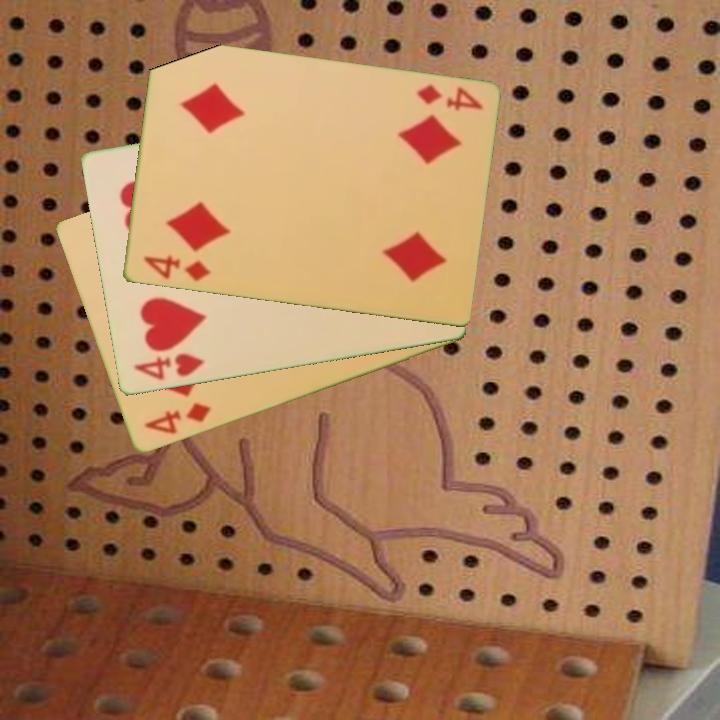4d: (140, 400, 213, 438), (413, 81, 486, 114), (139, 252, 213, 284)
4h: (130, 350, 207, 384)
